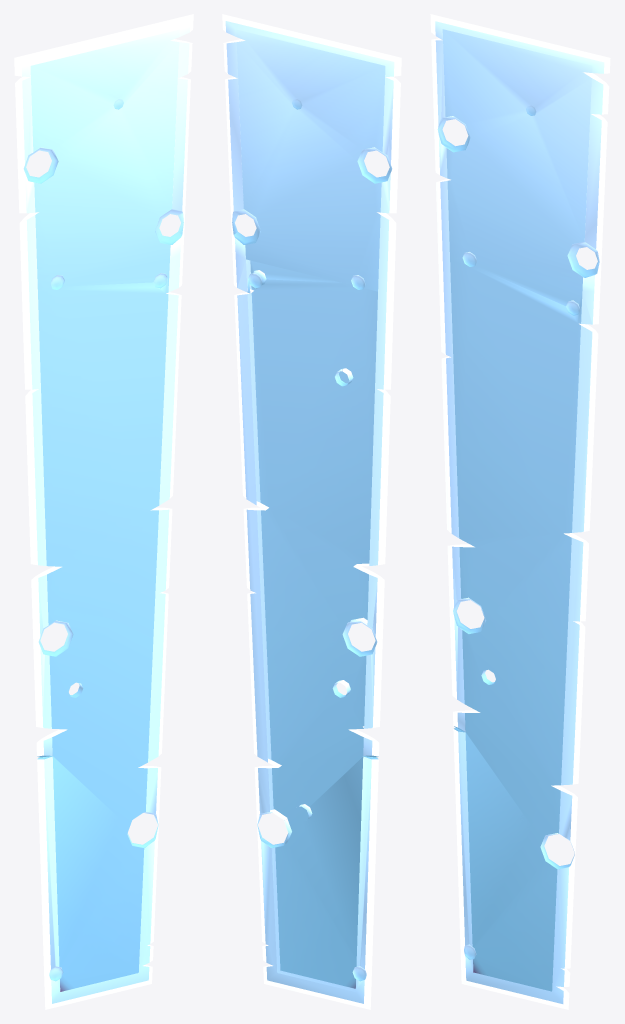
Rendered from steel_blade_bubbles_059.glb.
3 views of the same model, side by side, from view 1: azimuth 30°, elevation 25°; view 2: azimuth 150°, elevation 25°; view 3: azimuth 330°, elevation 25° (orthographic).
Visible parts, largest first — view 1: steel_blade_bubbles.059; view 2: steel_blade_bubbles.059; view 3: steel_blade_bubbles.059.
Part boxes in pixels (left/top/right/bottom): steel_blade_bubbles.059: left=14, top=14, right=193, bottom=1009; steel_blade_bubbles.059: left=222, top=14, right=401, bottom=1009; steel_blade_bubbles.059: left=430, top=14, right=610, bottom=1009.
Bounding box in the file's own units: 2.19 × 11.21 × 0.0882.
Materials: 1 (1 with a texture image).
